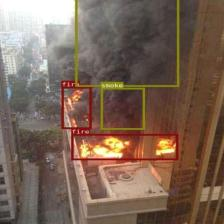fire: (71, 134, 178, 160), (62, 86, 91, 129)
smoke: (75, 0, 179, 86), (100, 88, 145, 129)
